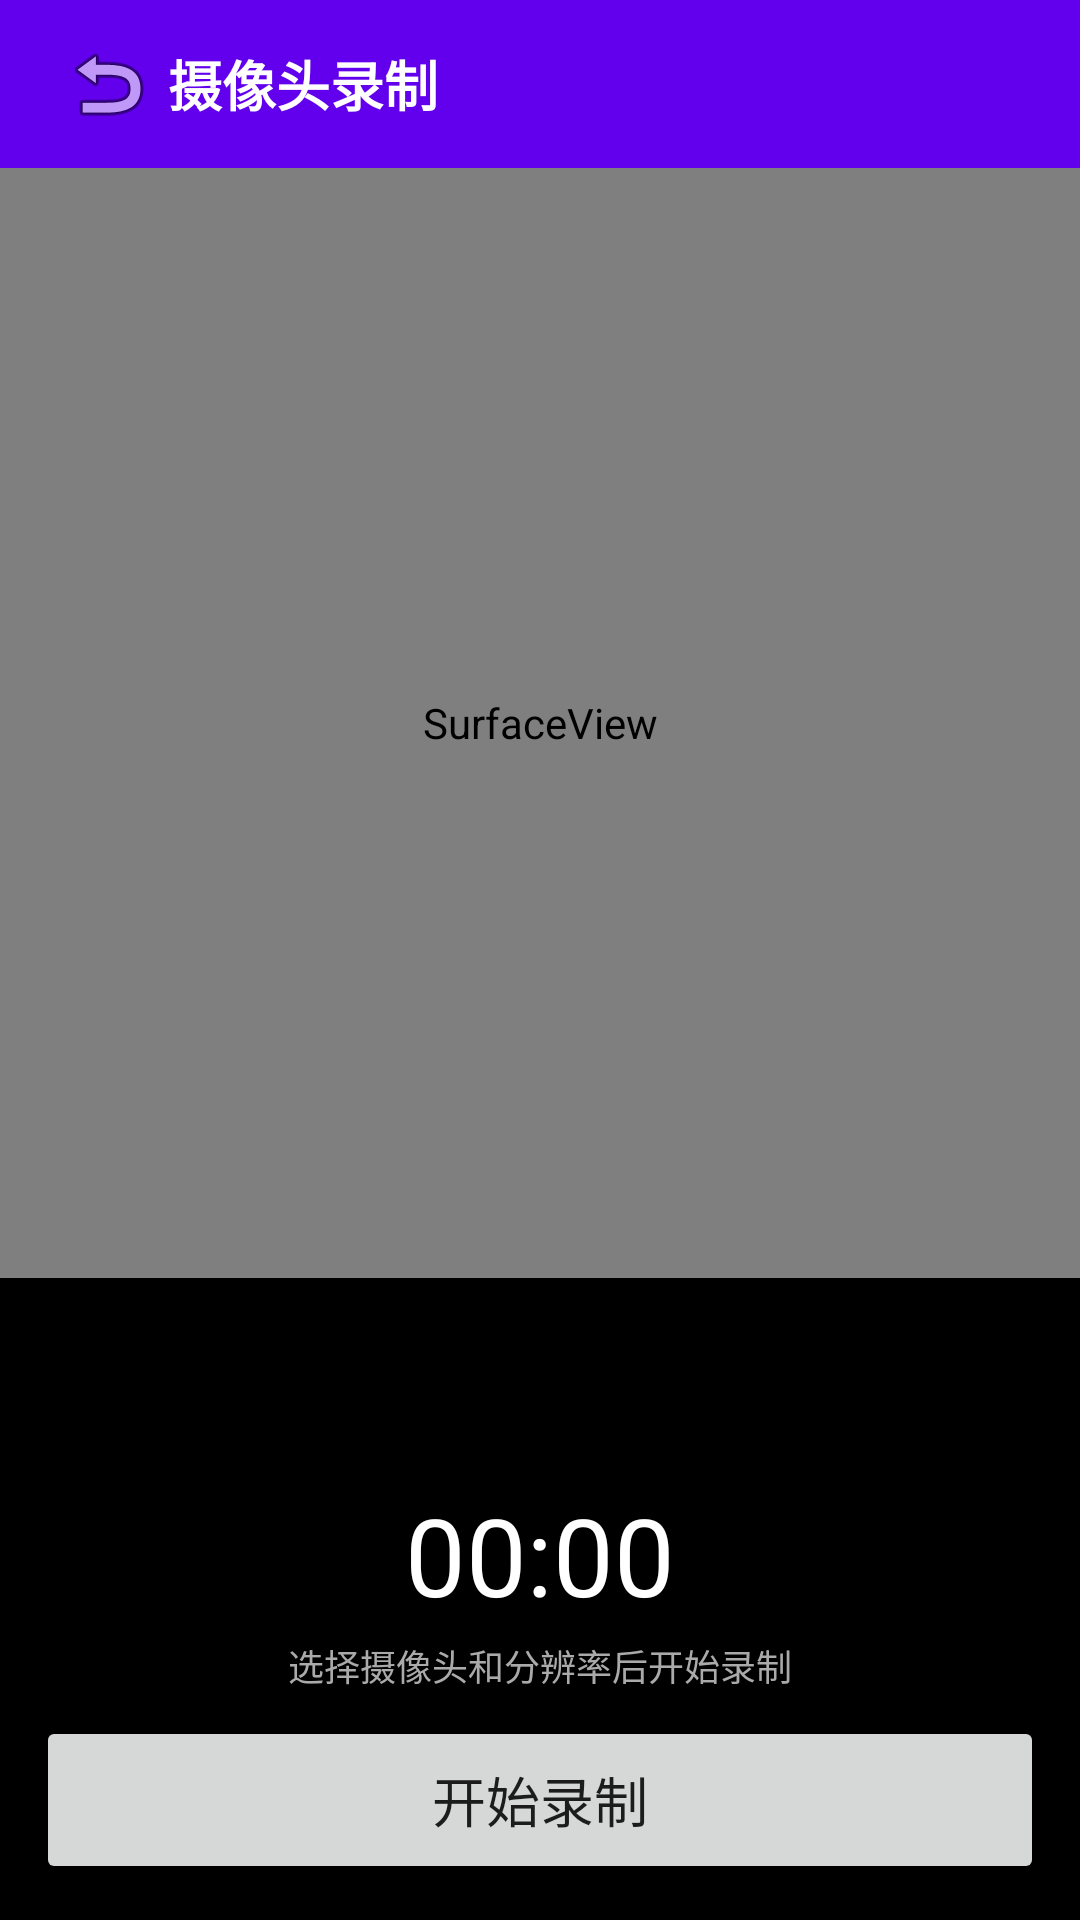

Icon bounding boxes for this 1080x1920 phone screenshot, format [x1, y1, x2, y2]:
revert: [75, 53, 144, 116]
